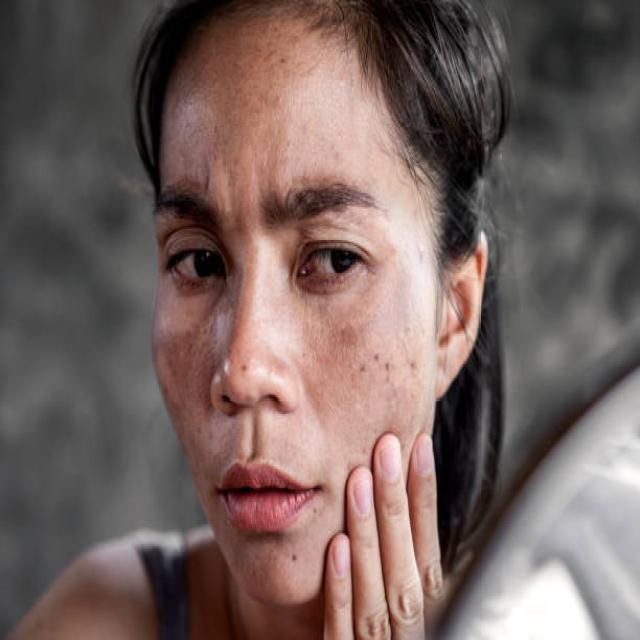Dry-Skin: (332, 294, 448, 450), (229, 45, 324, 178), (169, 82, 237, 233), (350, 113, 442, 220), (175, 303, 237, 422), (267, 479, 320, 575), (252, 305, 287, 427), (338, 70, 364, 113)
